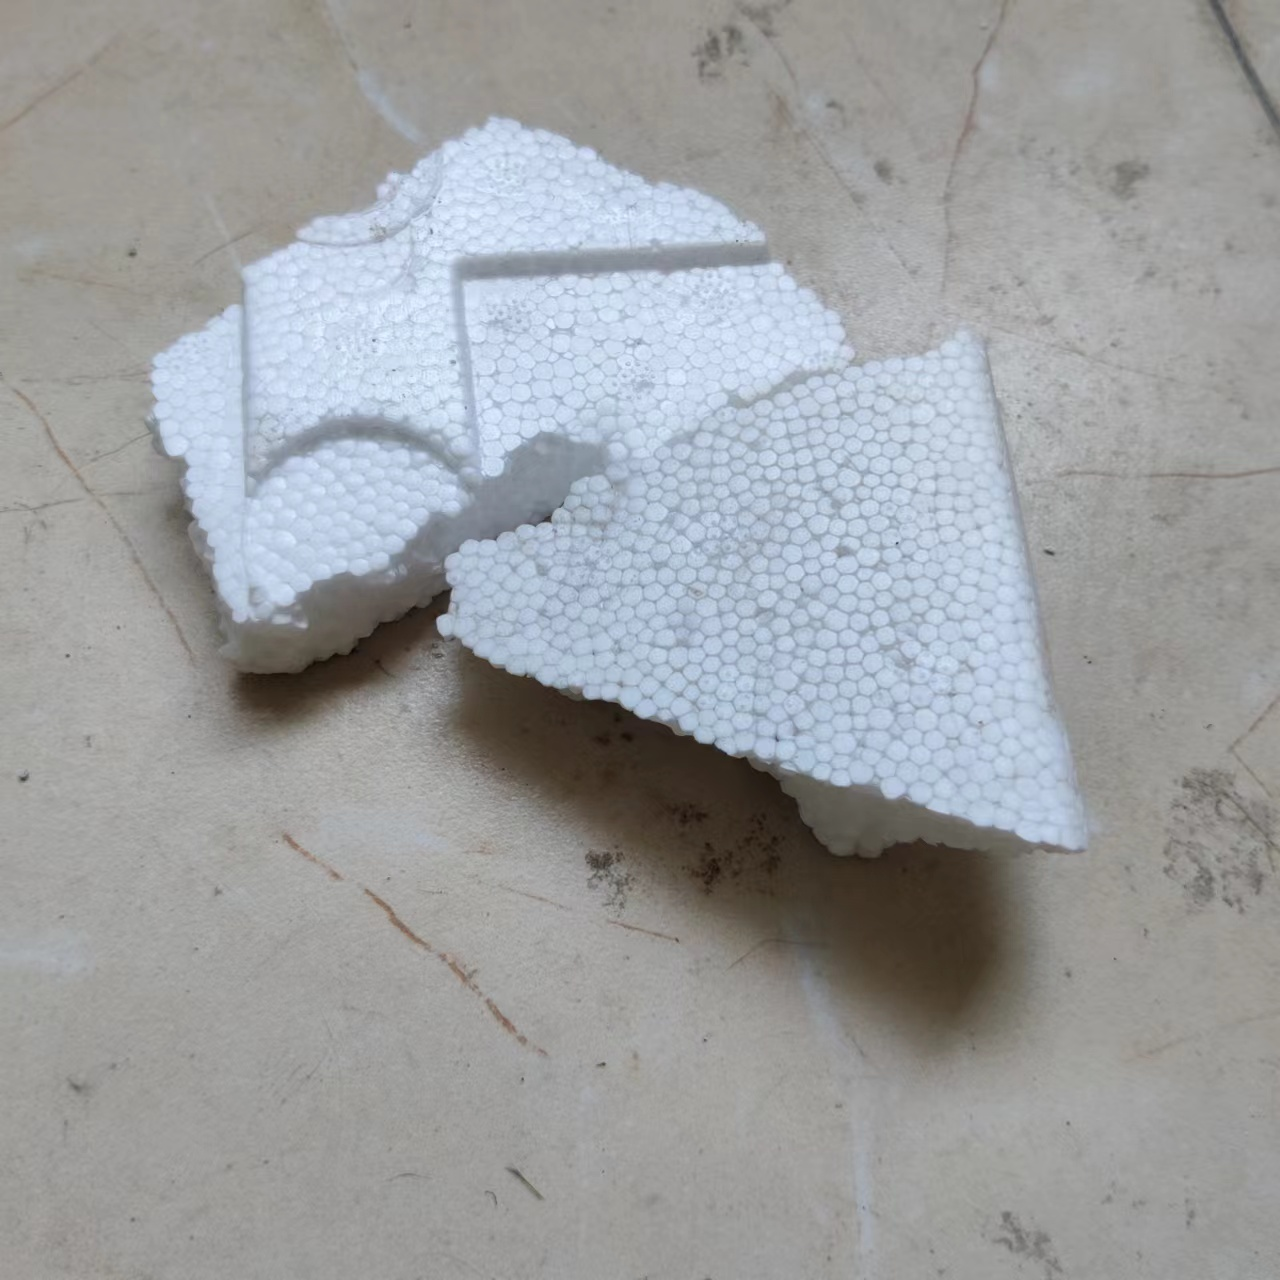5/可回收垃圾/泡沫: (148, 116, 851, 672), (435, 329, 1085, 856)
